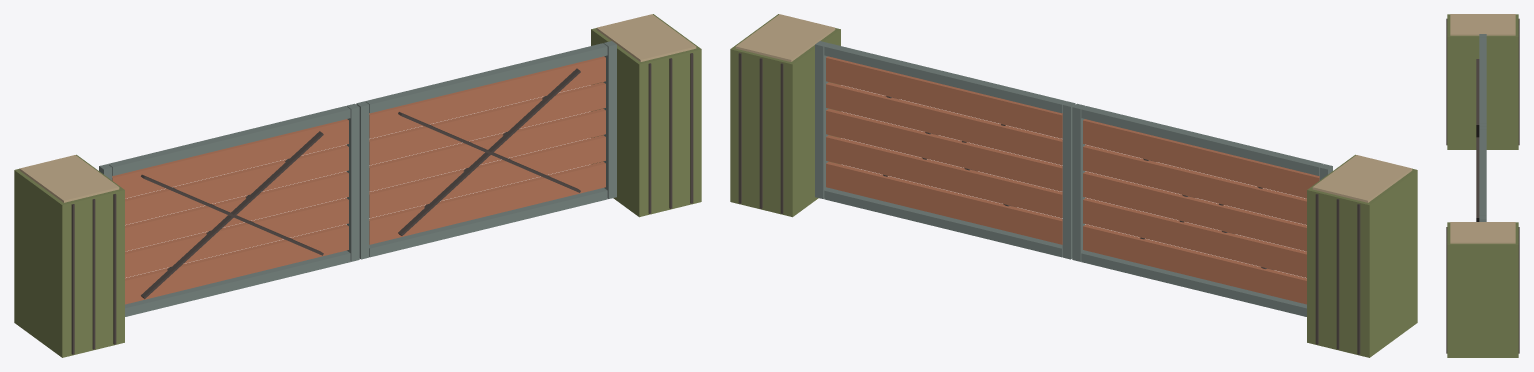
The model's file is SM_PuertaViaDoble_v2_Tablones_e0_Sano_LOD0.fbx.
The picture shows the model from 3 angles, left to right: view 1: azimuth 30°, elevation 25°; view 2: azimuth 150°, elevation 25°; view 3: azimuth 270°, elevation 25°; orthographic projection. The views are drawn at different scales.
Visible parts, largest first — view 1: Hoja_E, Hoja_O, SM_puerta_via_doble_v8_LOD0; view 2: Hoja_E, Hoja_O, SM_puerta_via_doble_v8_LOD0; view 3: SM_puerta_via_doble_v8_LOD0, Hoja_O, Hoja_E.
Boxes of the visible parts, x1,y1,x2,y2 form: Hoja_E: (356, 41, 616, 259); Hoja_O: (99, 103, 359, 316); SM_puerta_via_doble_v8_LOD0: (14, 14, 701, 357); Hoja_E: (815, 41, 1075, 259); Hoja_O: (1072, 103, 1332, 316); SM_puerta_via_doble_v8_LOD0: (730, 14, 1417, 357); SM_puerta_via_doble_v8_LOD0: (1446, 14, 1519, 357); Hoja_O: (1476, 34, 1486, 151); Hoja_E: (1476, 126, 1486, 221).
Size of the model in its own units: 9.2 by 2.16 by 1.24.
